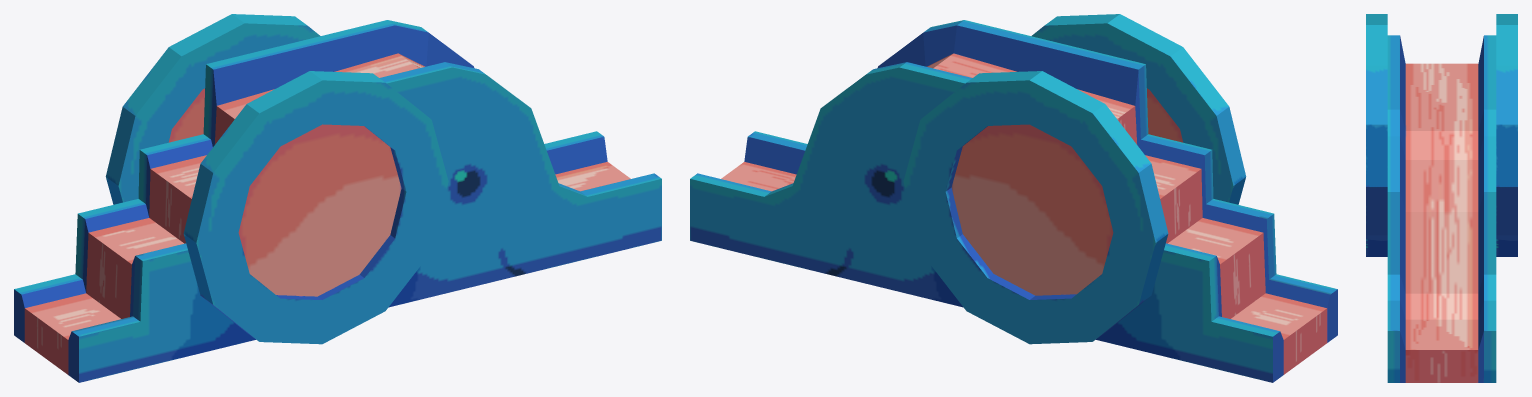
Rendered from elephant_slide.fbx.
3 views of the same model, side by side, from view 1: azimuth 30°, elevation 25°; view 2: azimuth 150°, elevation 25°; view 3: azimuth 270°, elevation 25° (orthographic). The views are drawn at different scales.
Parts seen in each view (by area): view 1: elephant_slide; view 2: elephant_slide; view 3: elephant_slide.
Boxes of the visible parts, left/top/right/bottom form: elephant_slide: left=14, top=14, right=661, bottom=382; elephant_slide: left=690, top=14, right=1337, bottom=382; elephant_slide: left=1366, top=14, right=1517, bottom=382.
Bounding box in the file's own units: 365 × 158 × 98.2.
